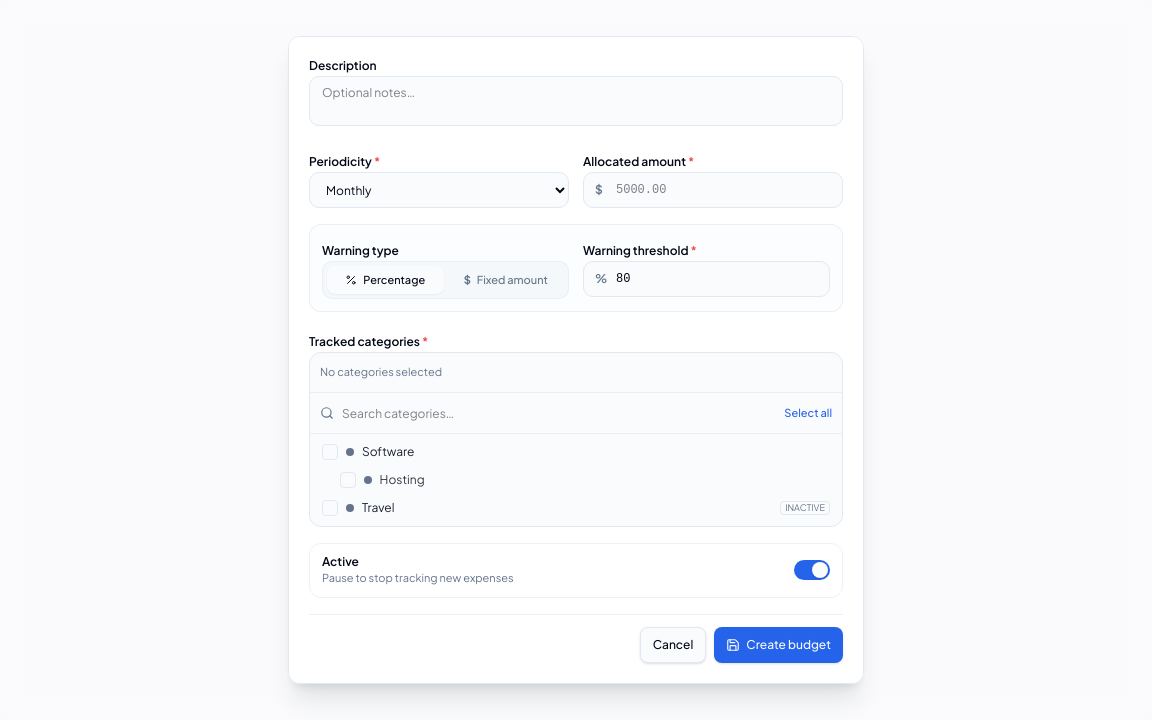
Test: budget form › validates required inputs before submitting
(page scrolled)
What coordinates should you click on to do the following:
click the button "Create budget"
I would click on:
 (779, 644)
Its box is [714,626,843,662].
(page scrolled)
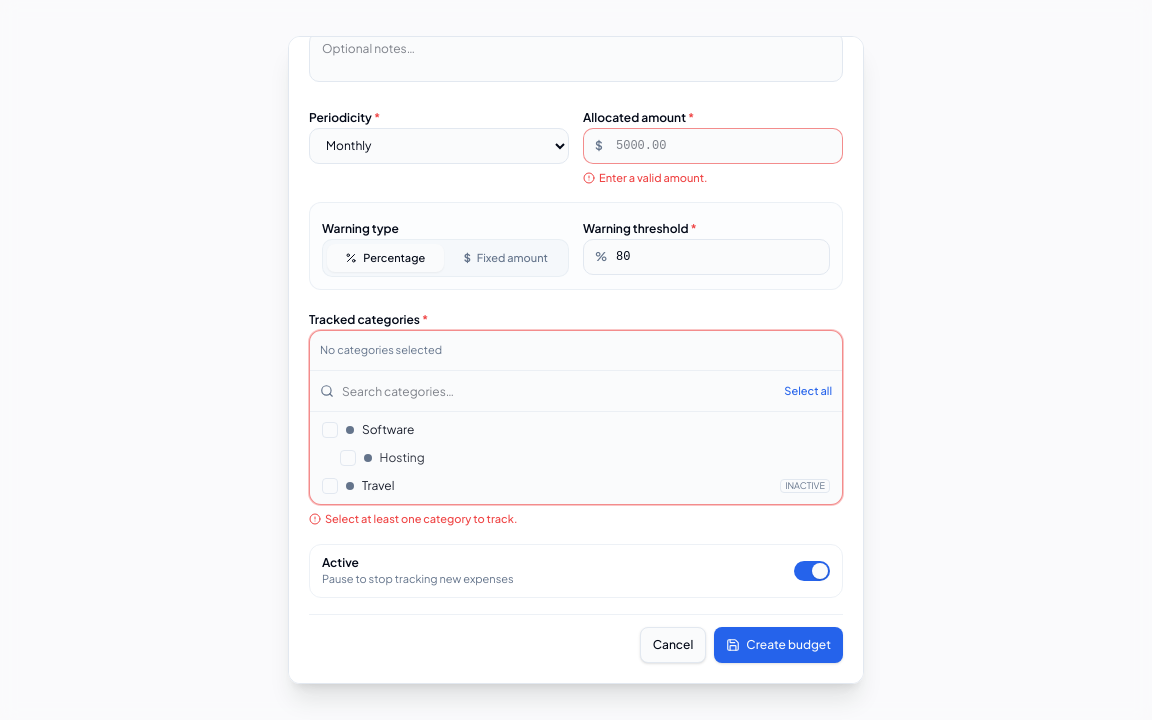
Expected: the text "Select at least one category to track." is shown, [309,512,517,525]
